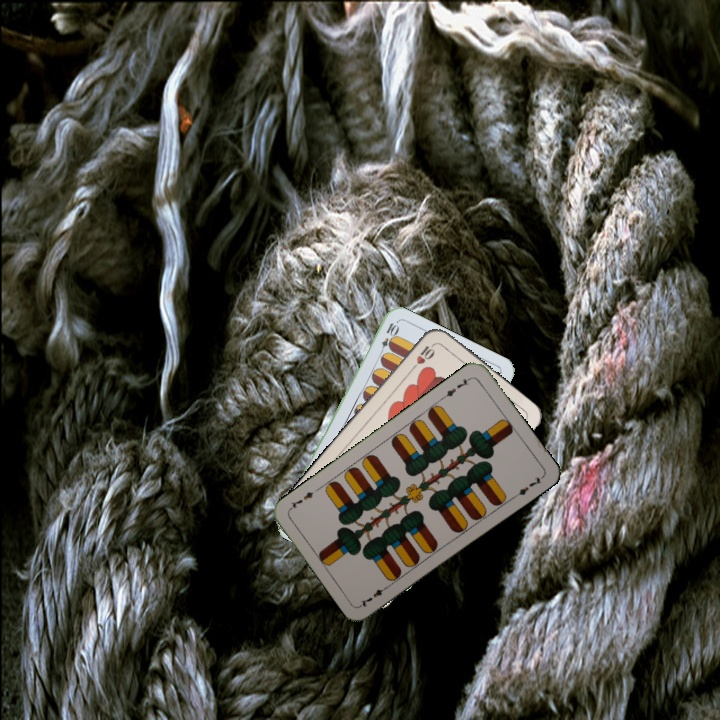E10: (375, 319, 400, 358)
E7: (356, 581, 392, 609), (439, 373, 474, 401)
H10: (407, 339, 438, 373)
